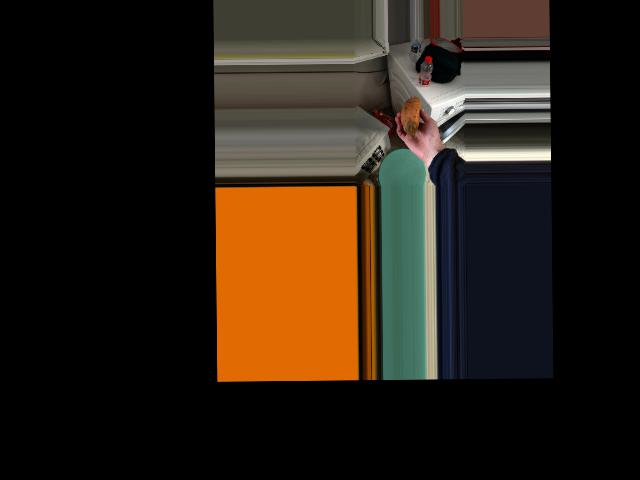sweet_potato: (403, 93, 423, 140)
